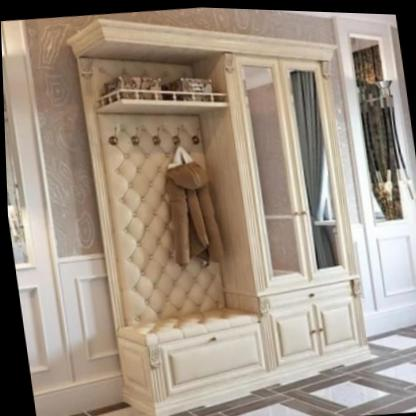Ceramic floor: (160, 324, 416, 416)
Closet: (67, 2, 377, 416)
